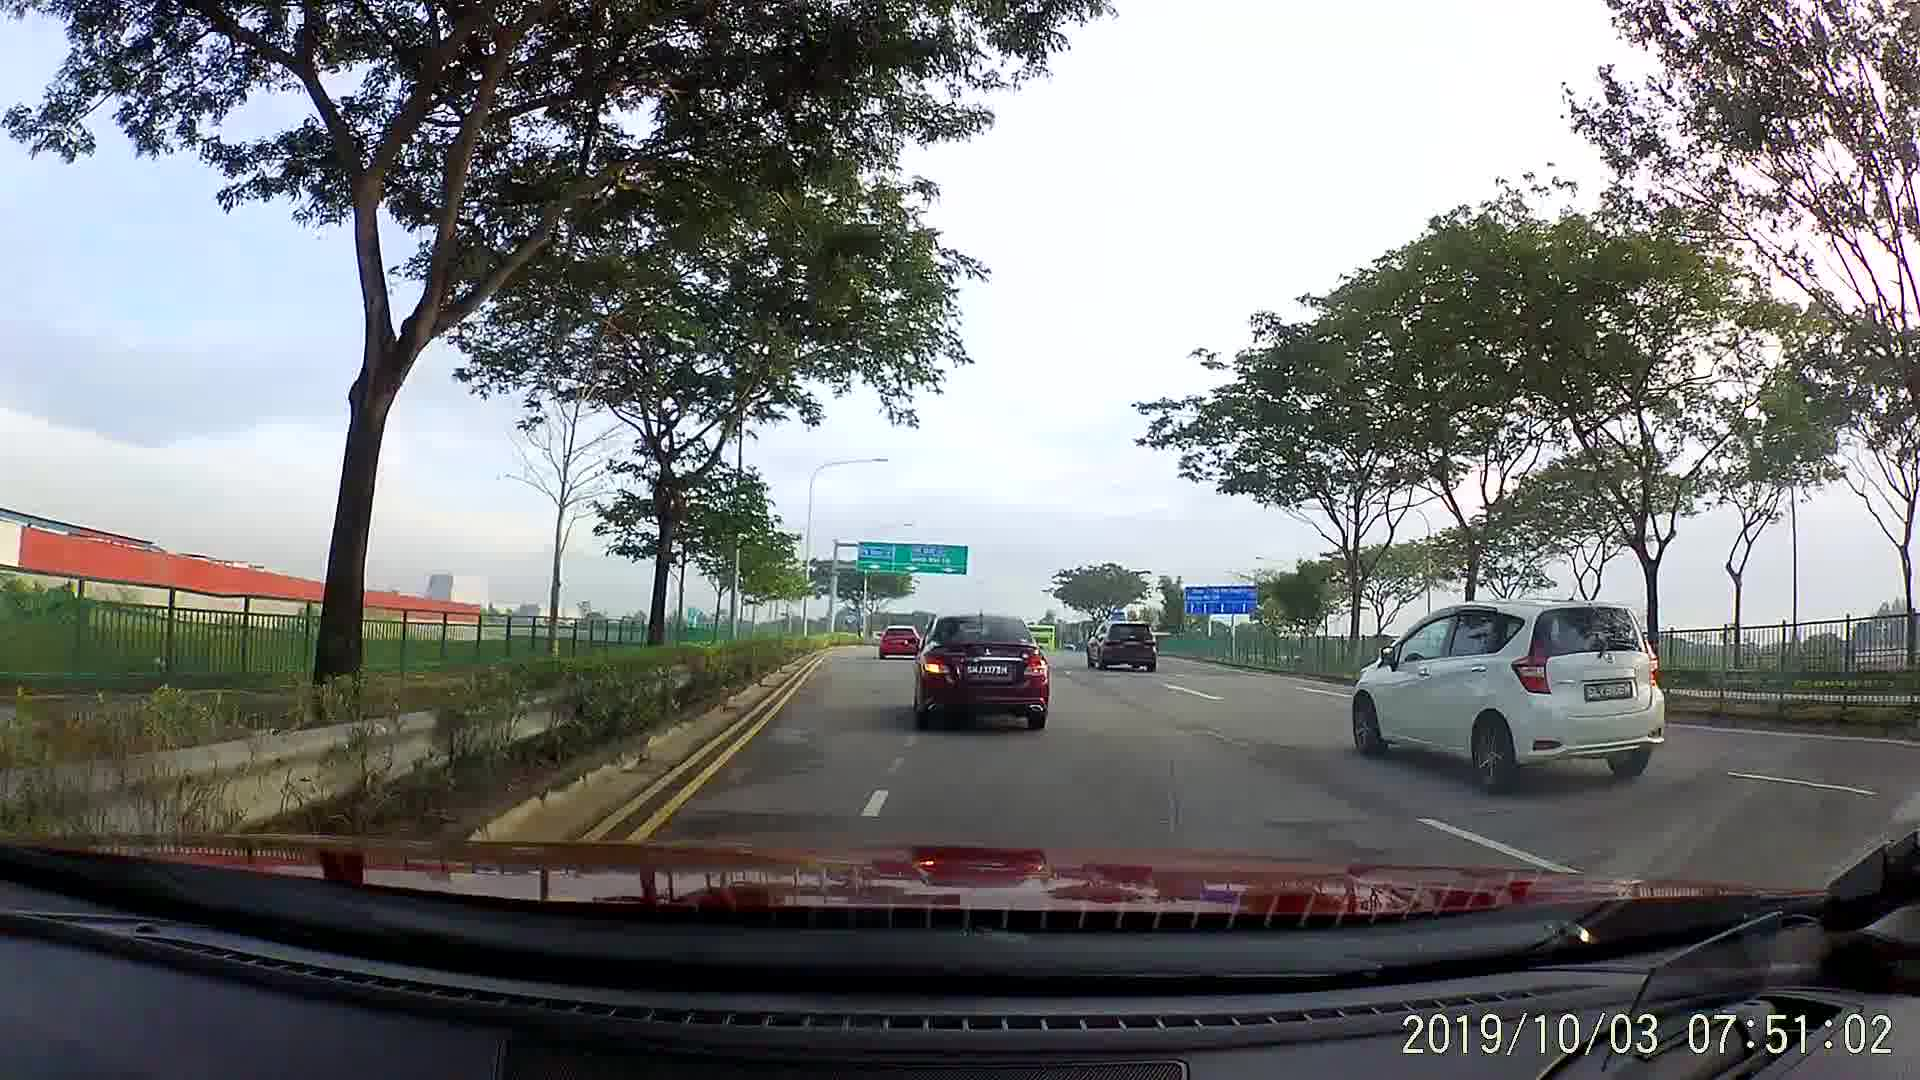car: (1342, 600, 1665, 796), (918, 611, 1048, 735), (1084, 618, 1159, 674), (876, 621, 924, 661)
